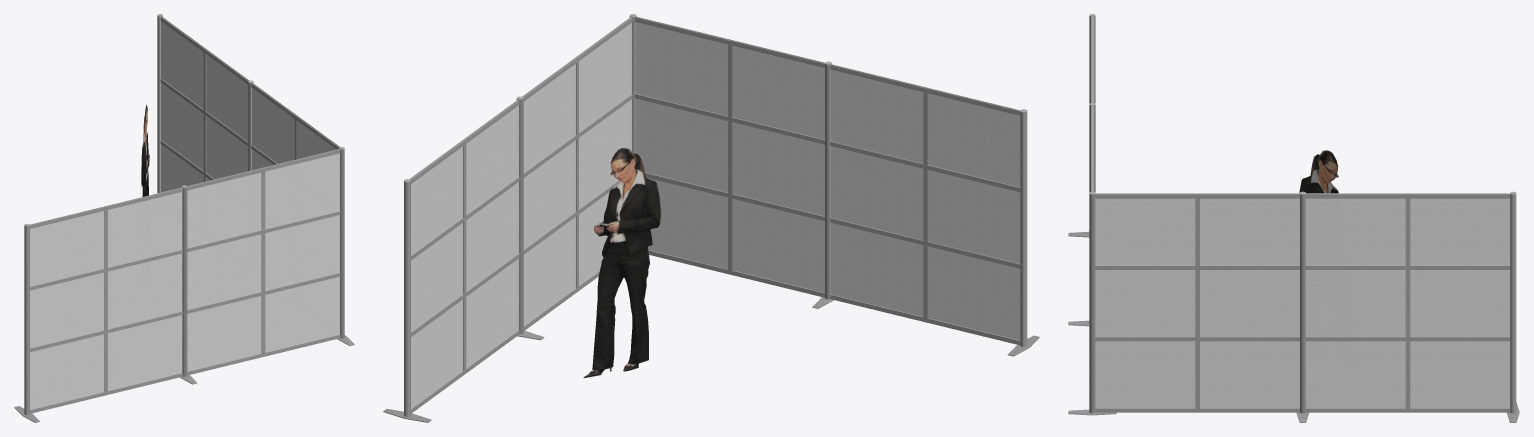
3 views of the same model, side by side, from view 1: azimuth 30°, elevation 25°; view 2: azimuth 150°, elevation 25°; view 3: azimuth 270°, elevation 25° (orthographic). The views are drawn at different scales.
Visible parts, largest first — view 1: group_16 (×4), group_13 (×4), group_14 (×3), group_11 (×3), group_15 (×3), group_12 (×2), Group_21 (×11), Group_369 (×2), group_8 (×2), group_23, _2D_lady01; view 2: group_13 (×4), group_16 (×4), group_14 (×4), group_11 (×4), group_15 (×4), group_12 (×4), Group_21 (×14), _2D_lady01, Group_369 (×2), group_8 (×2); view 3: group_12 (×2), group_13 (×2), group_15 (×2), group_16 (×2), group_11 (×2), group_14 (×2), Group_21 (×8), Group_369 (×2), group_23, group_8, _2D_lady01.
Boxes of the visible parts, <box> form: group_16 (×4): <box>108,21,339,267</box>; group_13 (×4): <box>30,54,336,286</box>; group_14 (×3): <box>108,83,339,329</box>; group_11 (×3): <box>30,116,261,348</box>; group_15 (×3): <box>108,144,339,390</box>; group_12 (×2): <box>30,296,261,409</box>; Group_21 (×11): <box>30,16,340,413</box>; Group_369 (×2): <box>24,16,162,415</box>; group_8 (×2): <box>183,82,251,376</box>; group_23: <box>340,149,344,338</box>; _2D_lady01: <box>141,104,149,196</box>; group_13 (×4): <box>466,23,1020,214</box>; group_16 (×4): <box>411,22,923,255</box>; group_14 (×4): <box>411,98,923,331</box>; group_11 (×4): <box>466,99,1020,291</box>; group_15 (×4): <box>411,178,923,408</box>; group_12 (×4): <box>466,192,1020,367</box>; Group_21 (×14): <box>409,16,1020,413</box>; _2D_lady01: <box>583,147,661,378</box>; Group_369 (×2): <box>404,111,1027,416</box>; group_8 (×2): <box>520,64,830,334</box>; group_12 (×2): <box>1095,341,1405,408</box>; group_13 (×2): <box>1095,198,1405,265</box>; group_15 (×2): <box>1200,341,1510,408</box>; group_16 (×2): <box>1200,198,1510,265</box>; group_11 (×2): <box>1095,270,1405,336</box>; group_14 (×2): <box>1200,270,1510,336</box>; Group_21 (×8): <box>1095,193,1510,412</box>; Group_369 (×2): <box>1089,16,1516,413</box>; group_23: <box>1089,194,1095,413</box>; group_8: <box>1300,194,1305,413</box>; _2D_lady01: <box>1299,150,1338,193</box>.
Size of the model in its own units: 140 by 140 by 75.06.
Materials: 12 (3 with a texture image).
